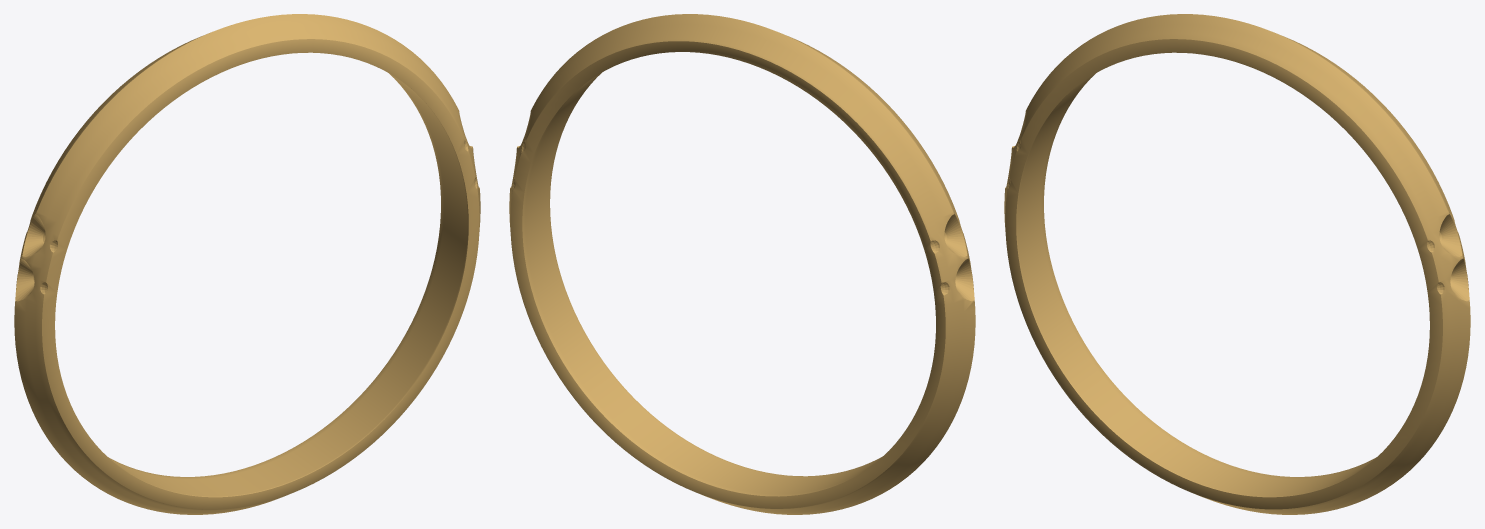
File: knife-edge-scalloped-u-cut-multi.glb
The picture shows the model from 3 angles, left to right: view 1: azimuth 30°, elevation 25°; view 2: azimuth 150°, elevation 25°; view 3: azimuth 330°, elevation 25°; orthographic projection.
Parts seen in each view (by area): view 1: Band; view 2: Band; view 3: Band.
Part boxes in pixels (x1,y1,x2,y2): Band: [14, 14, 480, 514]; Band: [509, 14, 975, 514]; Band: [1004, 14, 1470, 514].
Size of the model in its own units: 19.6 by 19.6 by 2.1.
